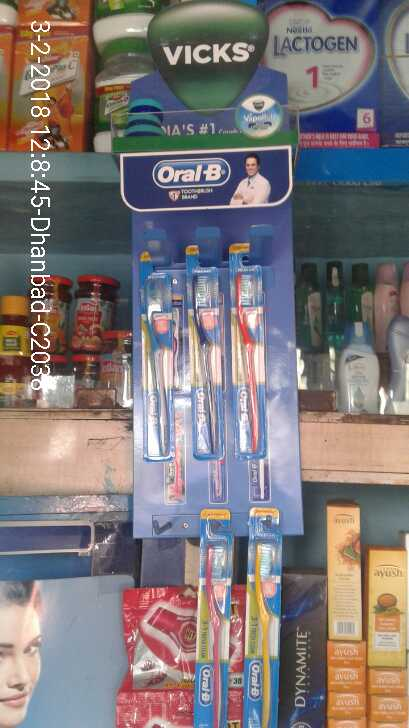pharmacy: (189, 509, 236, 728), (226, 266, 268, 477), (179, 269, 223, 453), (247, 520, 284, 728), (139, 272, 171, 461), (123, 91, 166, 142)
